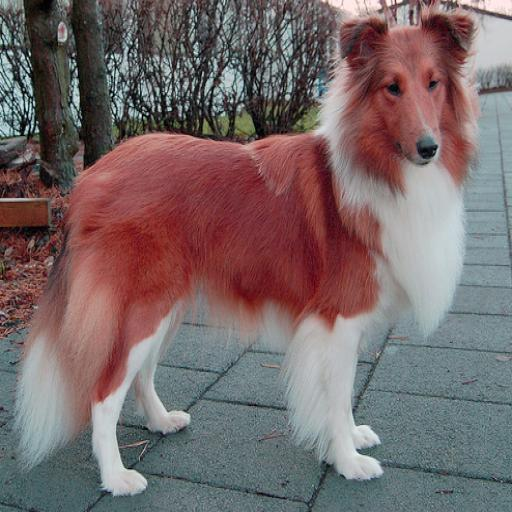dog_face: (331, 12, 483, 182)
